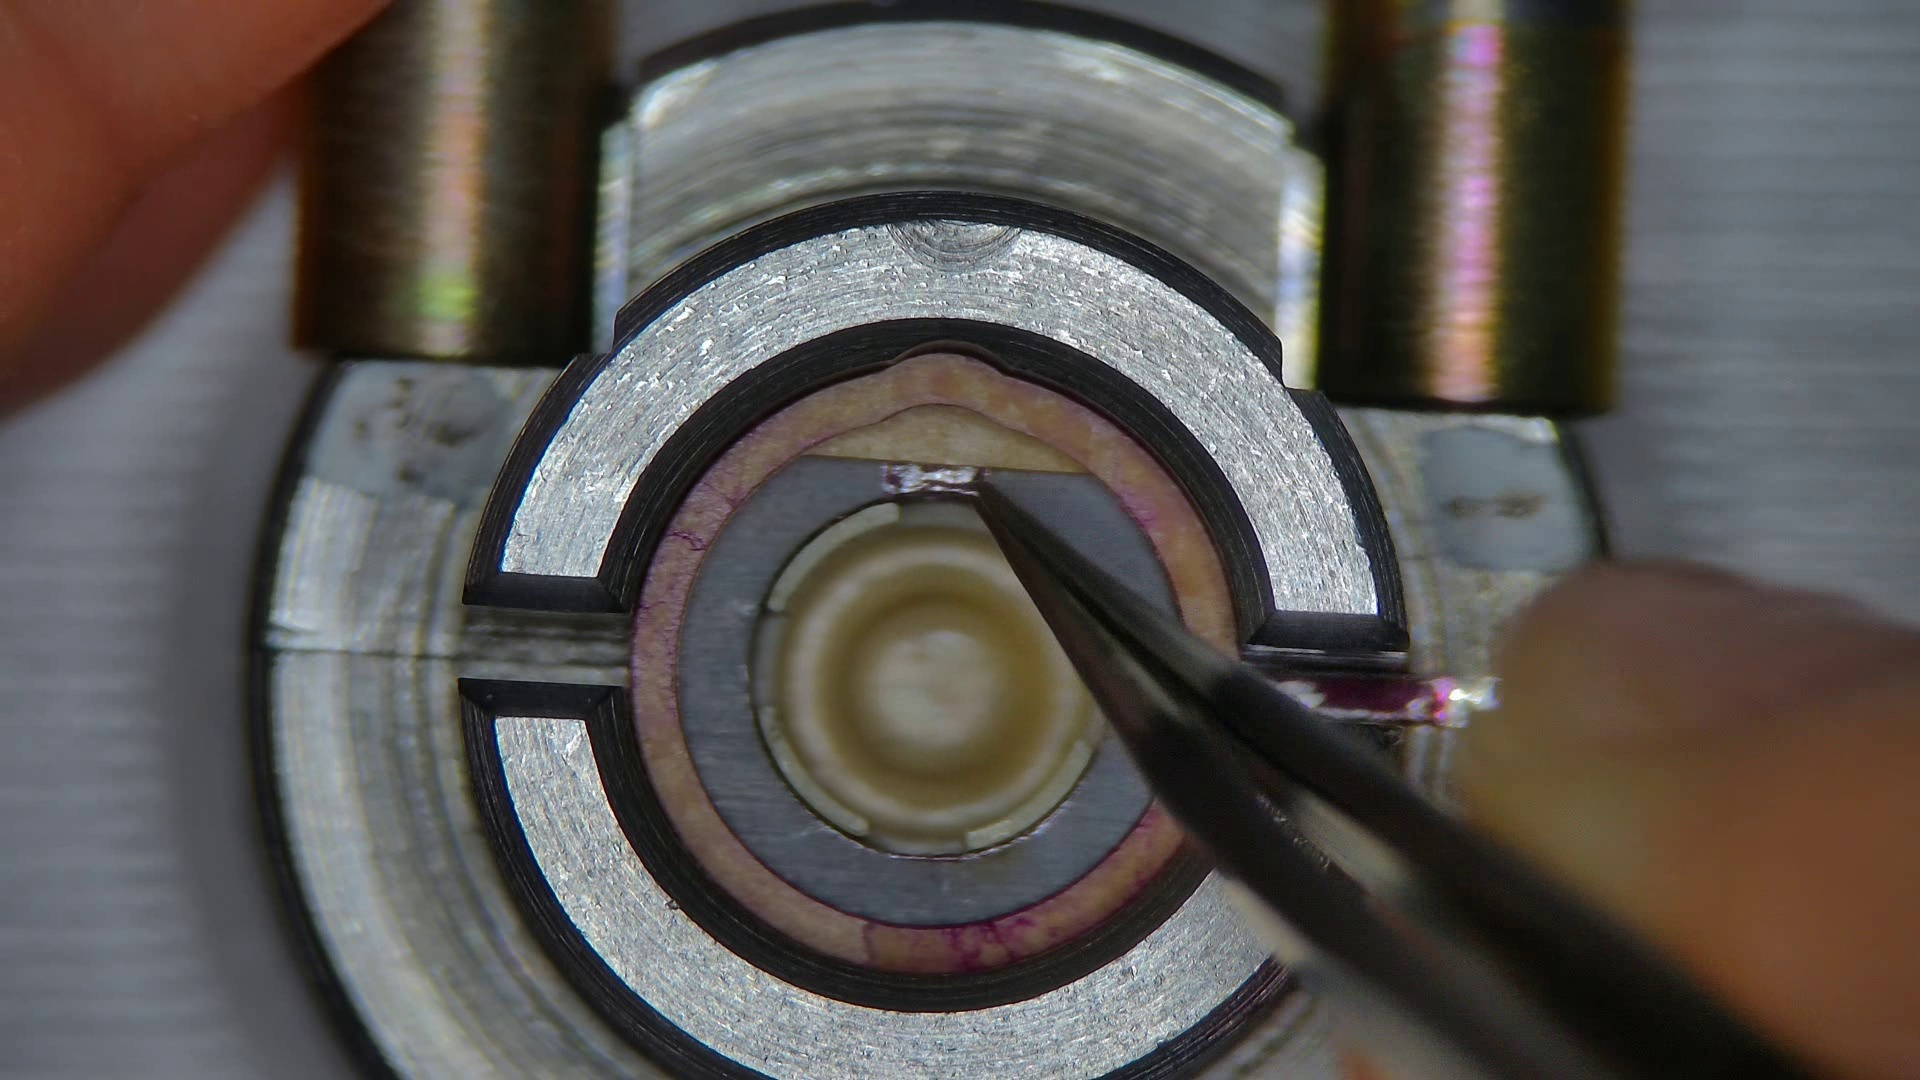GreyOring: (631, 351, 1230, 972)
YellowOring: (679, 462, 1183, 924)
redOring: (808, 404, 1078, 470)
